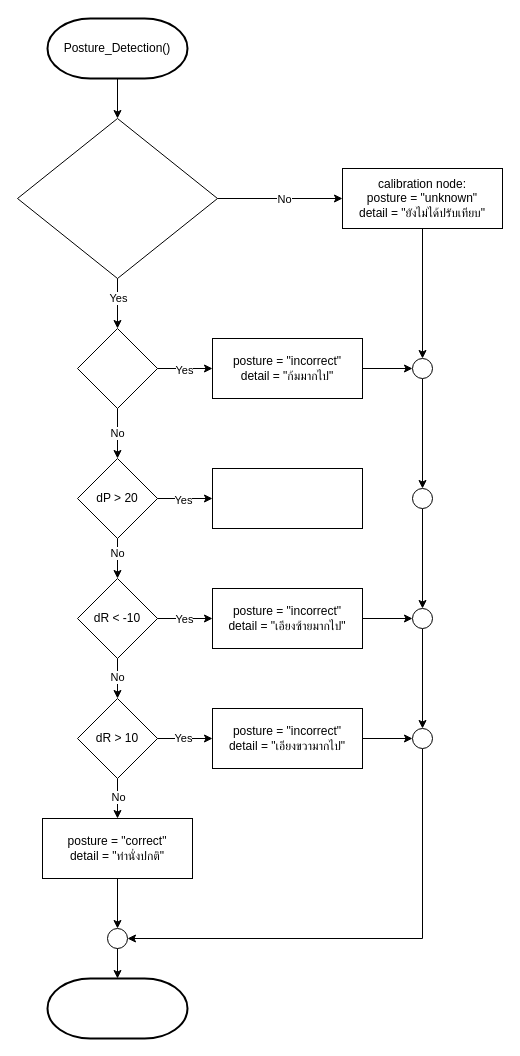
This 520x1056 diagram has some shape labels left out. Each missing label, with the box of its shape:
calibration node มีค่า pitch0 และ roll0 ไหม ?: (16, 118, 218, 278)
dP < -20: (76, 328, 158, 408)
posture = "incorrect" detail = "เงยมากไป": (212, 468, 362, 528)
return: (46, 977, 188, 1039)
